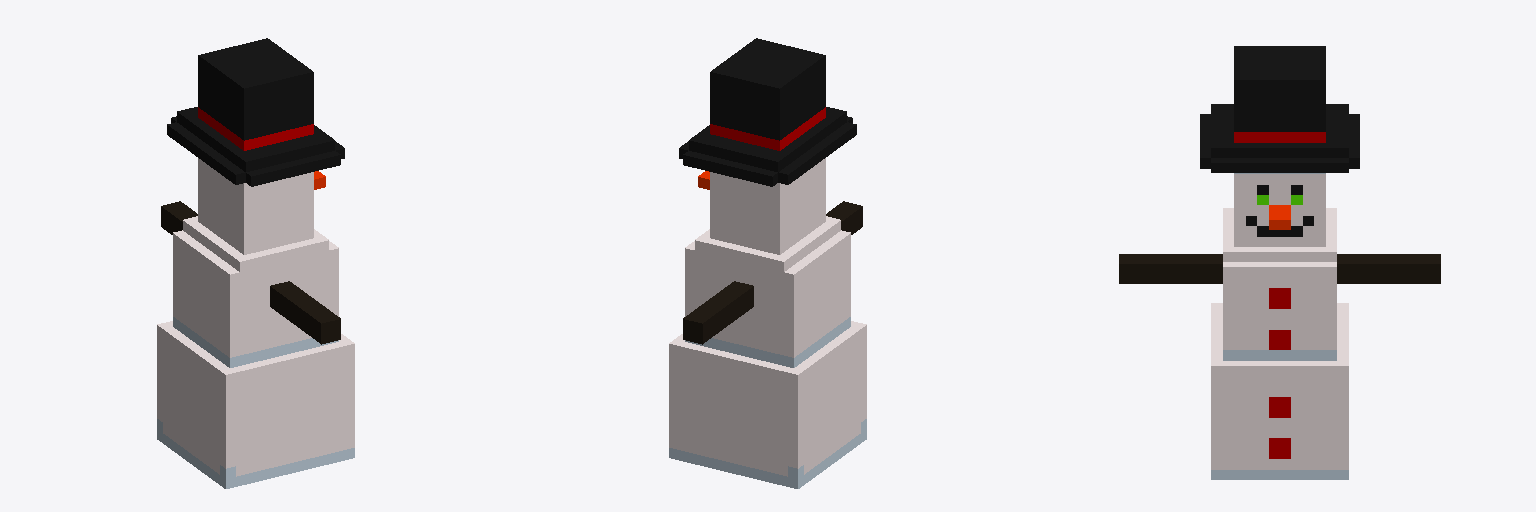
The picture shows the model from 3 angles: view 1: azimuth 30°, elevation 25°; view 2: azimuth 150°, elevation 25°; view 3: azimuth 270°, elevation 25°; orthographic projection.
Visible parts, largest first — view 1: Snowman_Mesh; view 2: Snowman_Mesh; view 3: Snowman_Mesh.
Boxes of the visible parts, x1,y1,x2,y2 form: Snowman_Mesh: [157, 38, 354, 488]; Snowman_Mesh: [669, 38, 866, 488]; Snowman_Mesh: [1119, 46, 1440, 479].
Size of the model in its own units: 1.3 by 3.7 by 2.8.
Materials: 1 (1 with a texture image).